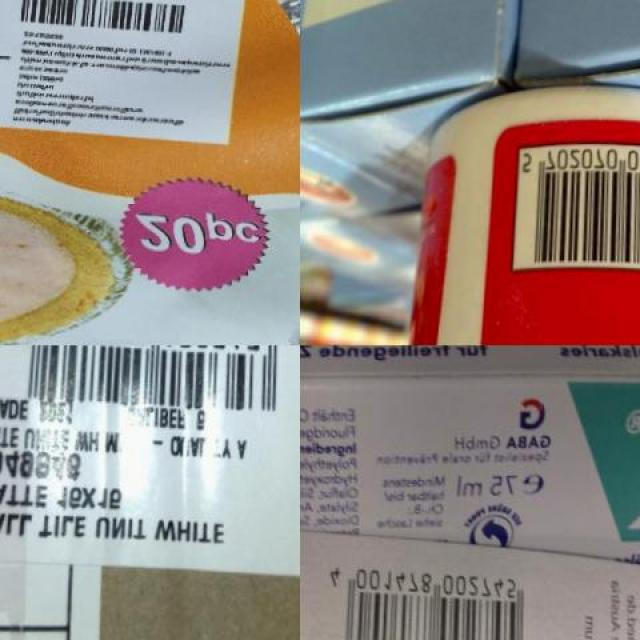Barcode: (0, 345, 300, 564), (323, 553, 540, 640), (514, 138, 640, 270), (6, 0, 198, 33)
